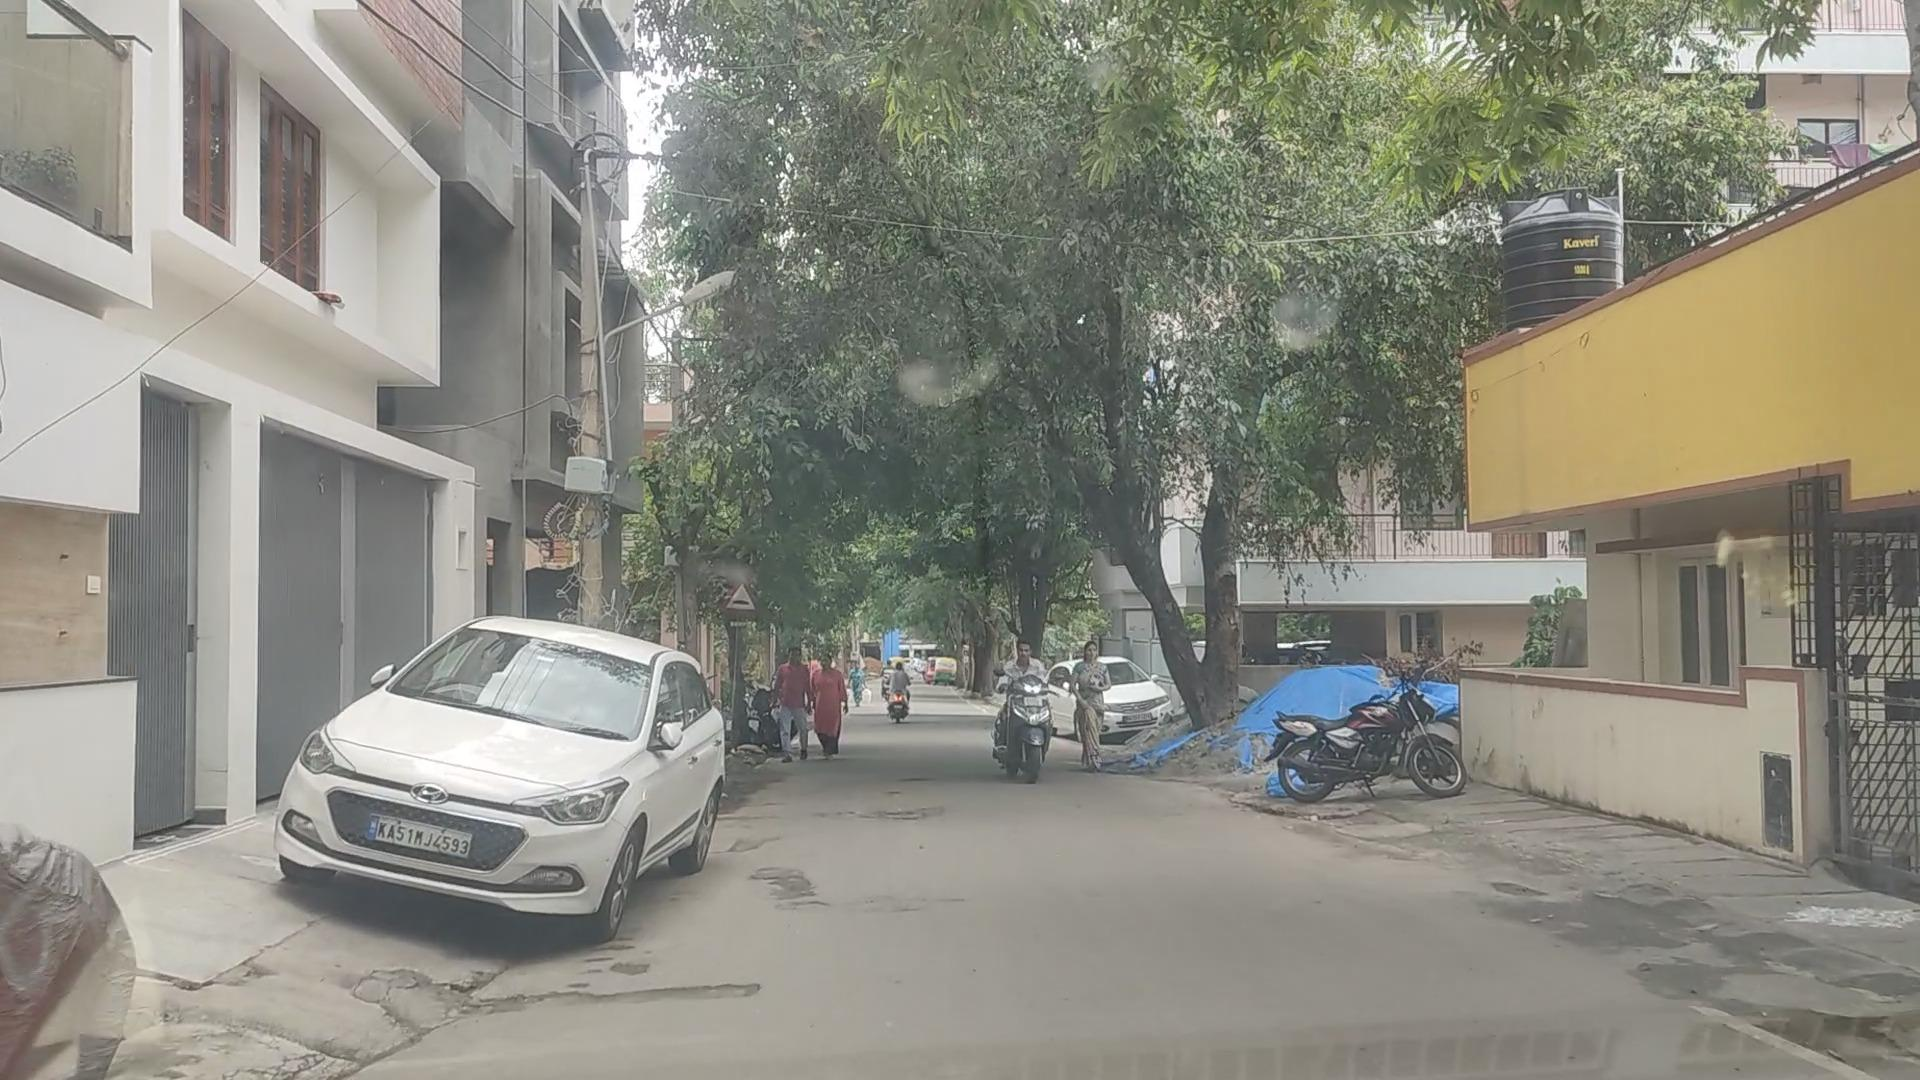LMV: (993, 640, 1058, 781)
RoadDamages: (343, 960, 773, 1011), (744, 860, 823, 915), (843, 795, 952, 828)
